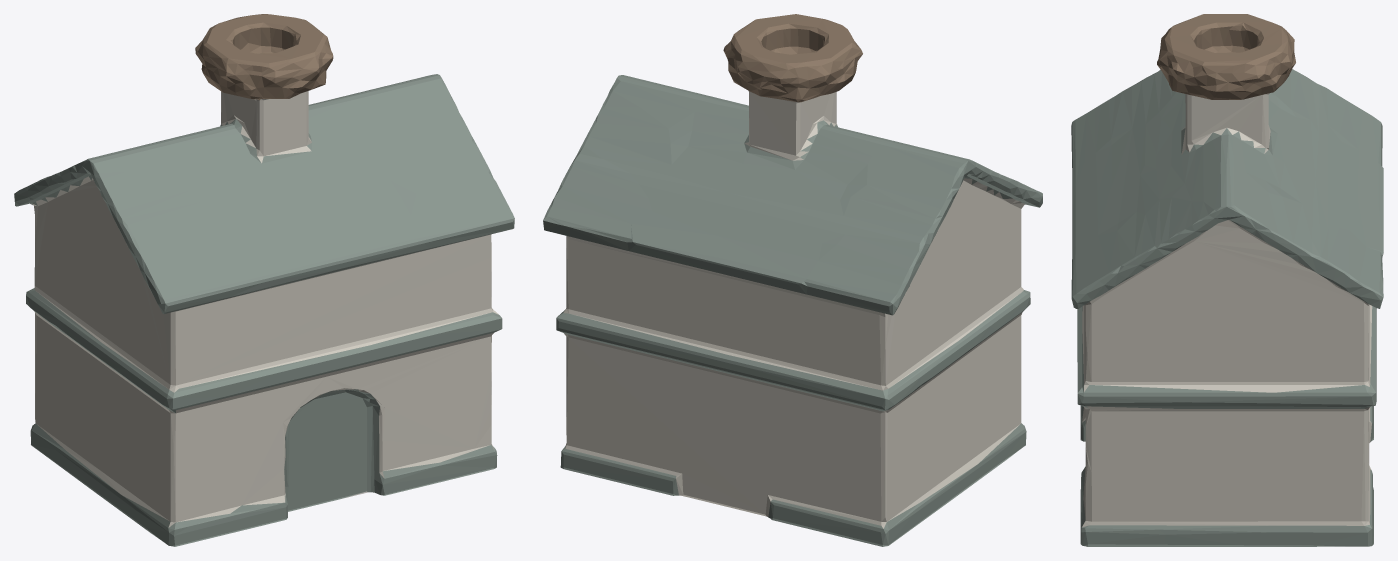
3 views of the same model, side by side, from view 1: azimuth 30°, elevation 25°; view 2: azimuth 150°, elevation 25°; view 3: azimuth 270°, elevation 25° (orthographic). The views are drawn at different scales.
Visible parts, largest first — view 1: geometry_0; view 2: geometry_0; view 3: geometry_0.
Boxes of the visible parts, x1,y1,x2,y2 form: geometry_0: (14,14,514,546); geometry_0: (543,14,1042,546); geometry_0: (1071,14,1383,546).
Bounding box in the file's own units: 0.8461 × 0.954 × 0.6321.
